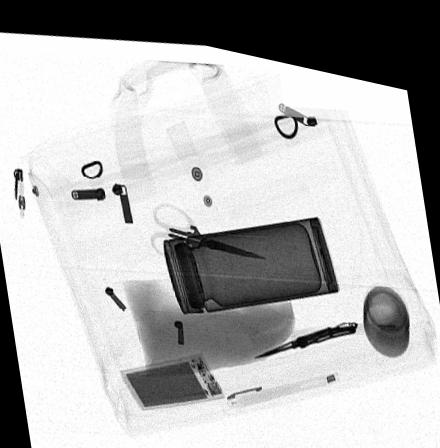Knife: (249, 306, 358, 347)
Powerbank: (120, 341, 227, 405)
Scissors: (153, 196, 265, 251)
